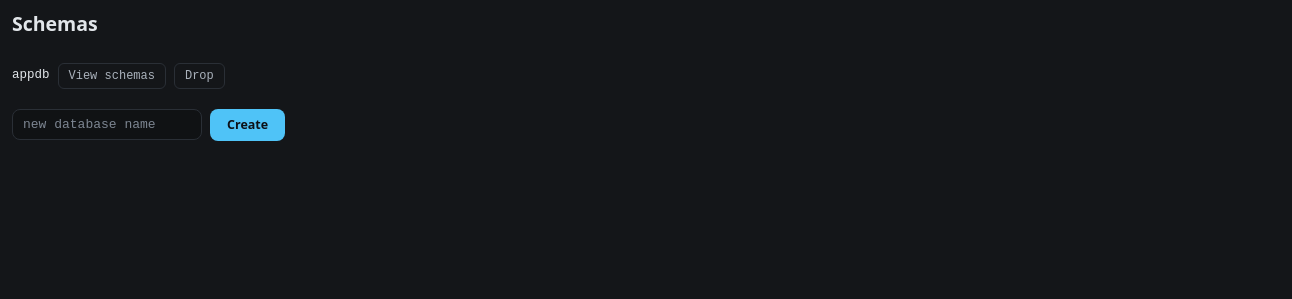
Scenario: SchemaPanel postgres schemas › lists schemas for the selected database
Expected: the list item "appdb" is shown, [12, 68, 50, 82]
Click the button "View schemas": (112, 76) [58, 63, 166, 89]
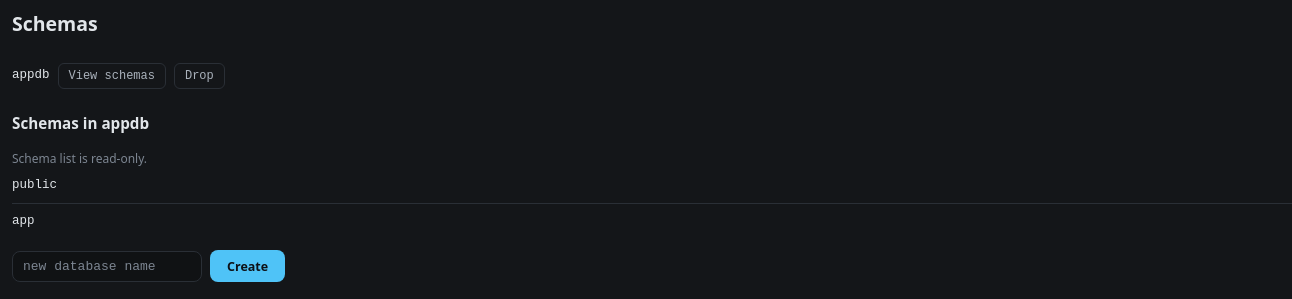
Result: the list item "public" is shown at [12, 168, 1291, 204]
Result: the list item "app" is shown at [12, 214, 34, 228]
